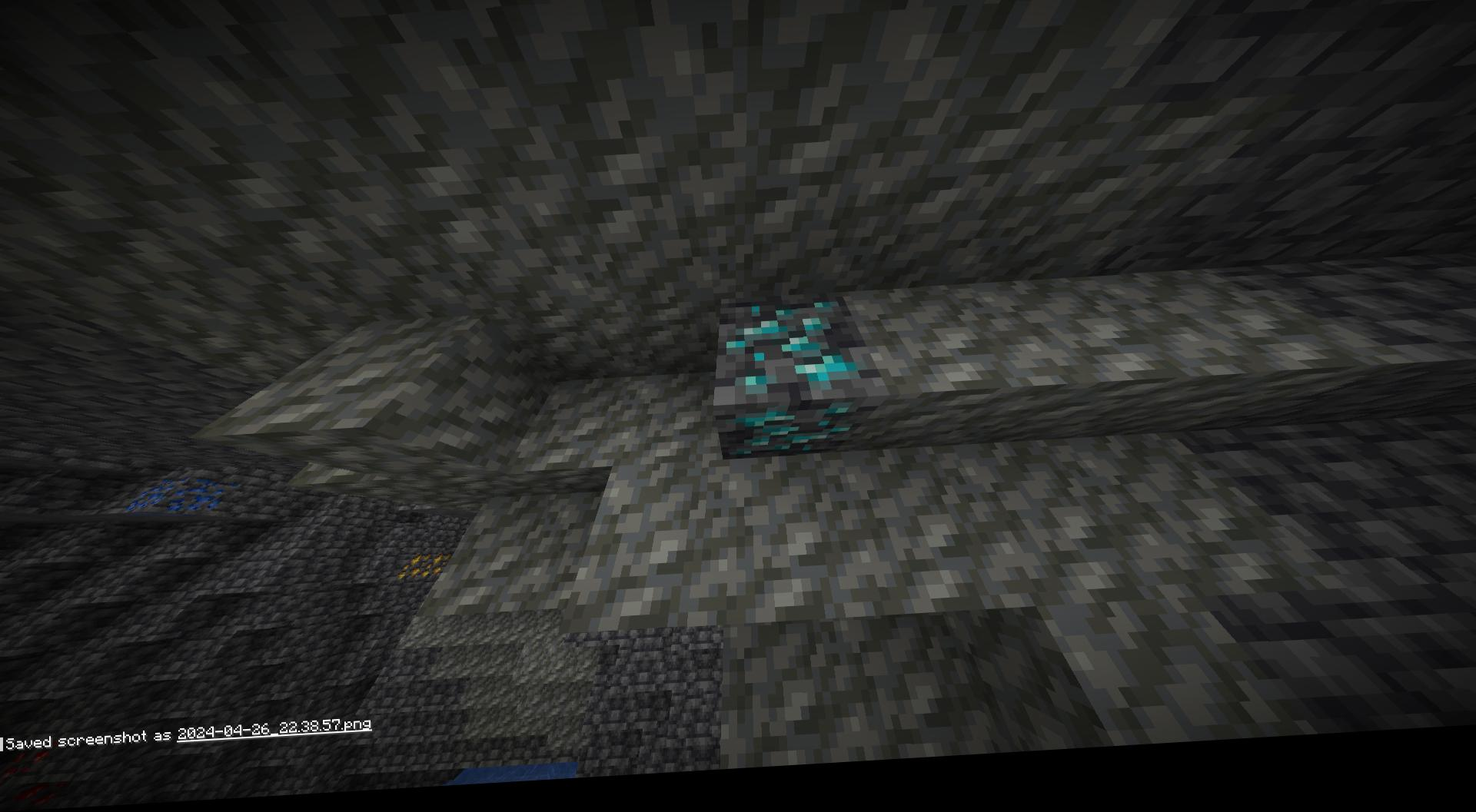diamond ore: (719, 299, 869, 468)
gold ore: (403, 555, 447, 588)
